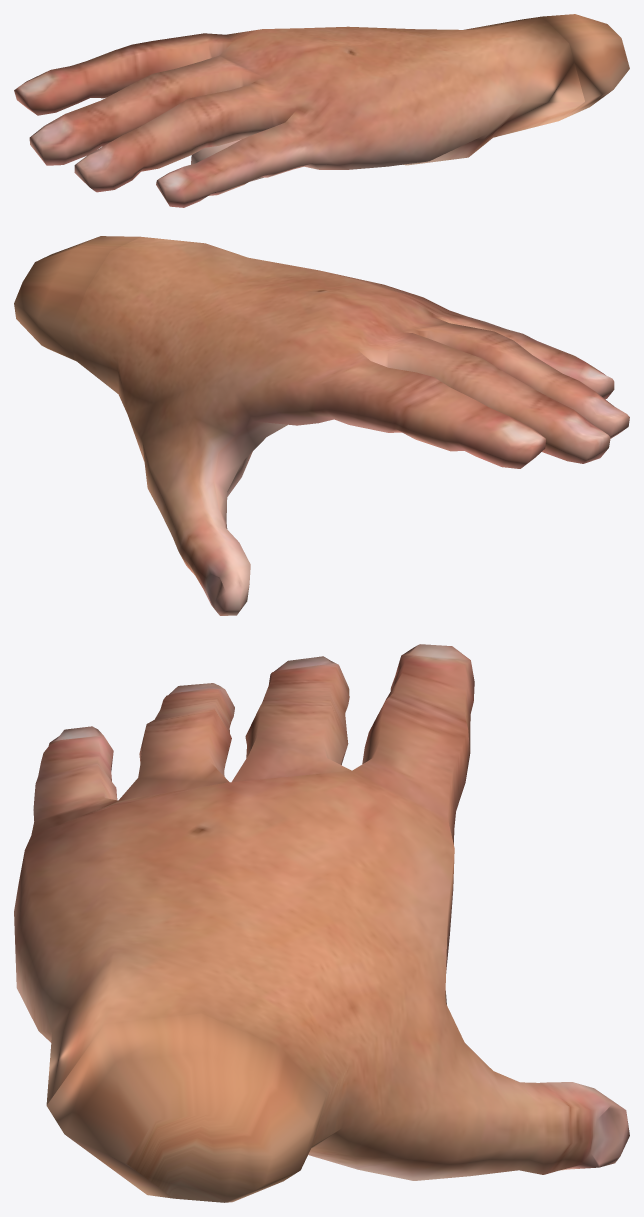
Rendered from LeftHand1.dae.
3 renders of one model, top to bottom at view 1: azimuth 30°, elevation 25°; view 2: azimuth 150°, elevation 25°; view 3: azimuth 270°, elevation 25°, orthographic. The views are drawn at different scales.
Parts seen in each view (by area): view 1: LeftrHand; view 2: LeftrHand; view 3: LeftrHand.
Boxes of the visible parts, left/top/right/bottom form: LeftrHand: left=14, top=14, right=629, bottom=207; LeftrHand: left=14, top=236, right=629, bottom=615; LeftrHand: left=14, top=644, right=629, bottom=1202.
Size of the model in its own units: 0.2194 by 0.1222 by 0.0805.
Materials: 1 (1 with a texture image).
